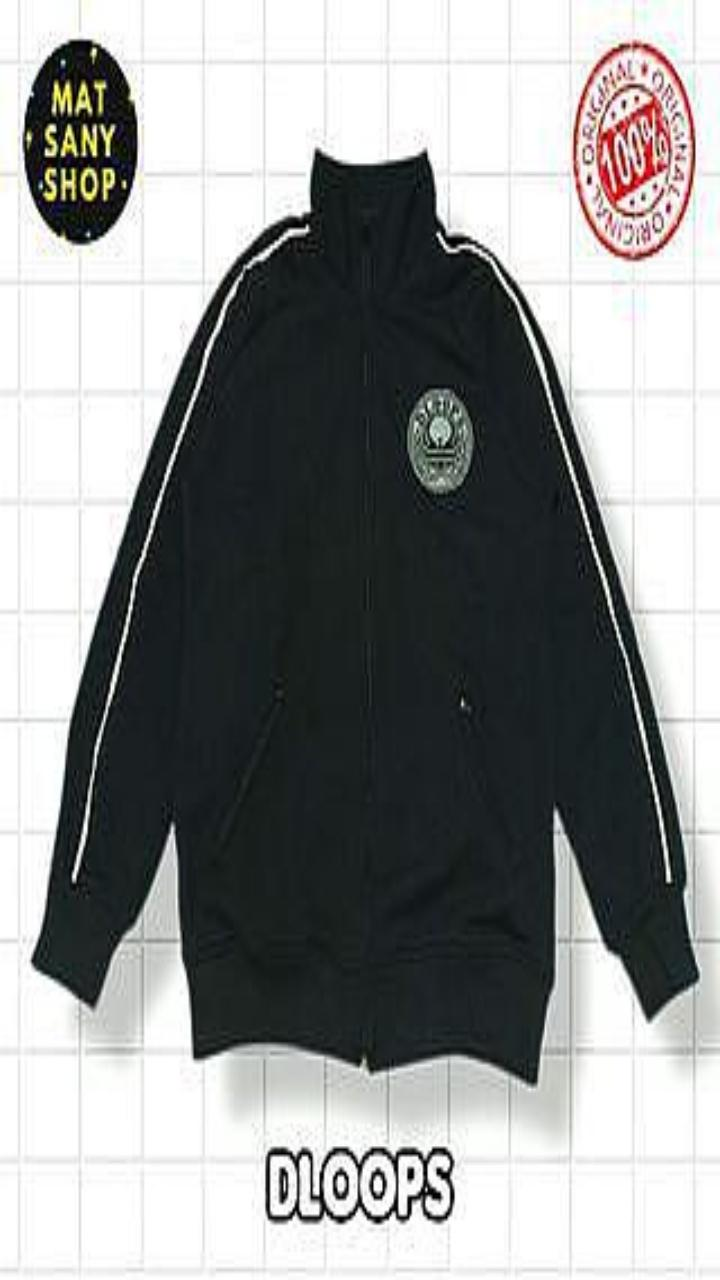Sports_Jacket: (32, 149, 698, 1083)
